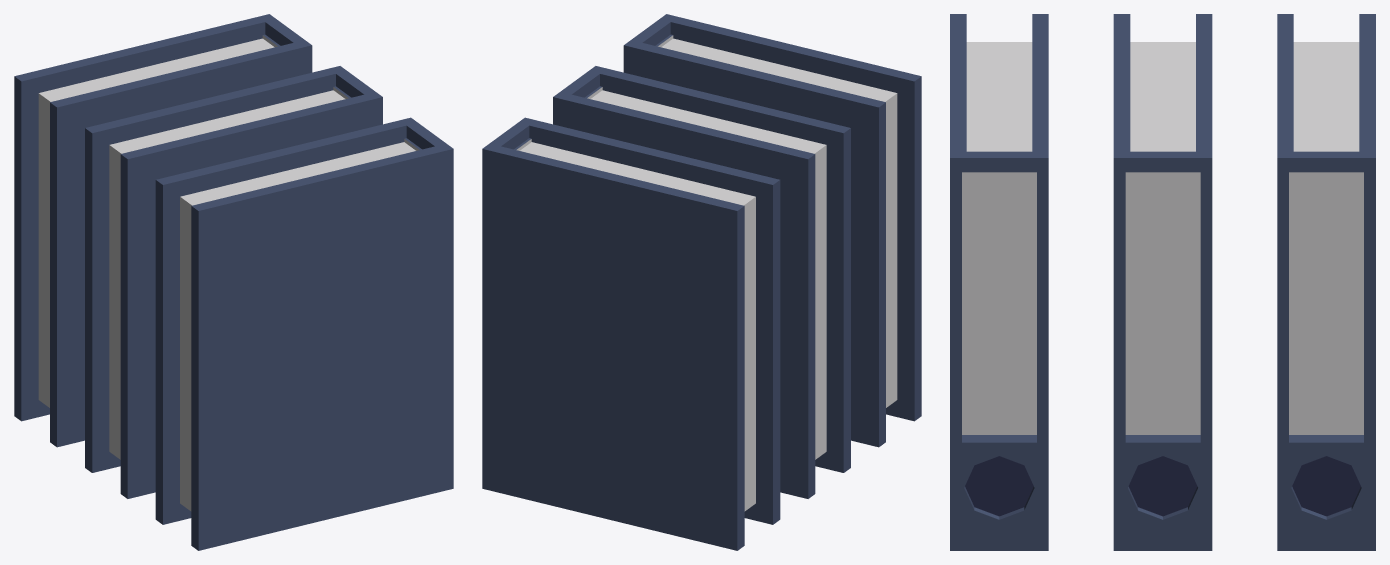
Rendered from SM_Binder_02.glb.
3 renders of one model, left to right at view 1: azimuth 30°, elevation 25°; view 2: azimuth 150°, elevation 25°; view 3: azimuth 270°, elevation 25°, orthographic. The views are drawn at different scales.
Parts seen in each view (by area): view 1: SM_Binder_02; view 2: SM_Binder_02; view 3: SM_Binder_02.
Part boxes in pixels (x1,y1,x2,y2): SM_Binder_02: (14,14,453,550); SM_Binder_02: (482,14,921,550); SM_Binder_02: (950,14,1375,550).
Size of the model in its own units: 0.2372 by 0.3019 by 0.2965.
1 material, 1 textured.
